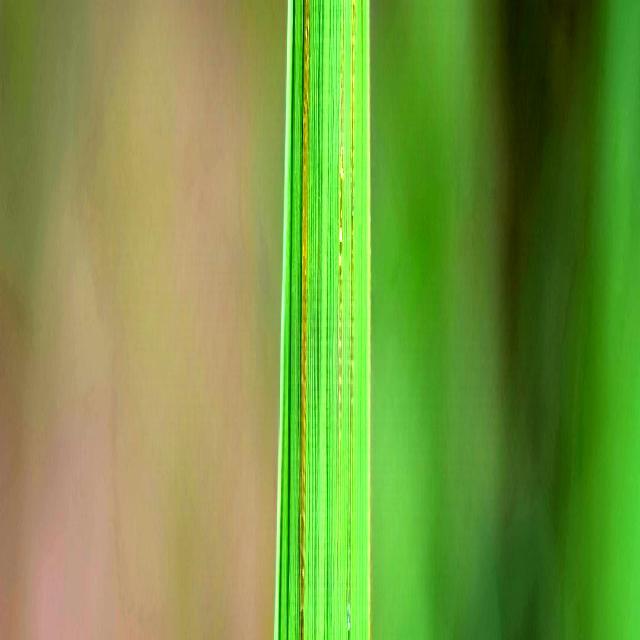BLS: (300, 0, 311, 640), (347, 0, 356, 640), (337, 0, 344, 527), (362, 0, 362, 58)
